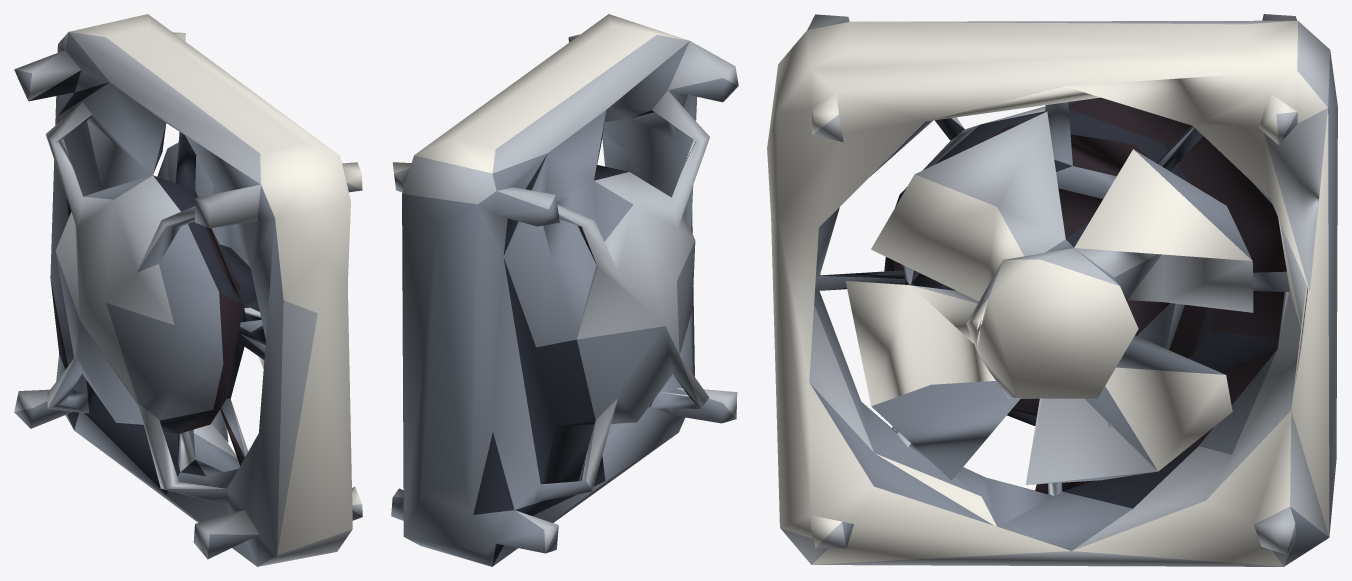
Rendered from SM_industrial_fan.fbx.
3 views of the same model, side by side, from view 1: azimuth 30°, elevation 25°; view 2: azimuth 150°, elevation 25°; view 3: azimuth 270°, elevation 25° (orthographic). The views are drawn at different scales.
Parts seen in each view (by area): view 1: SM_industrial_fan; view 2: SM_industrial_fan; view 3: SM_industrial_fan.
Boxes of the visible parts, left/top/right/bottom form: SM_industrial_fan: left=14, top=14, right=362, bottom=566; SM_industrial_fan: left=391, top=14, right=738, bottom=566; SM_industrial_fan: left=767, top=14, right=1337, bottom=566.
Size of the model in its own units: 29.59 by 60 by 61.23.
1 material, 1 textured.
